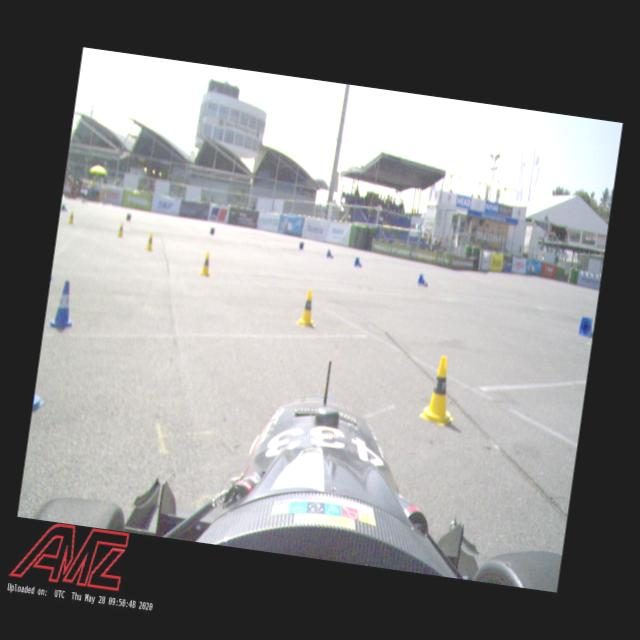blue_cone: (46, 278, 79, 333), (577, 316, 595, 338), (416, 273, 429, 288), (353, 256, 364, 268), (325, 249, 335, 260), (60, 203, 69, 213)
yellow_cone: (418, 352, 462, 428), (296, 286, 320, 328), (198, 250, 214, 278), (145, 232, 155, 252), (116, 222, 126, 238), (67, 210, 76, 226)
